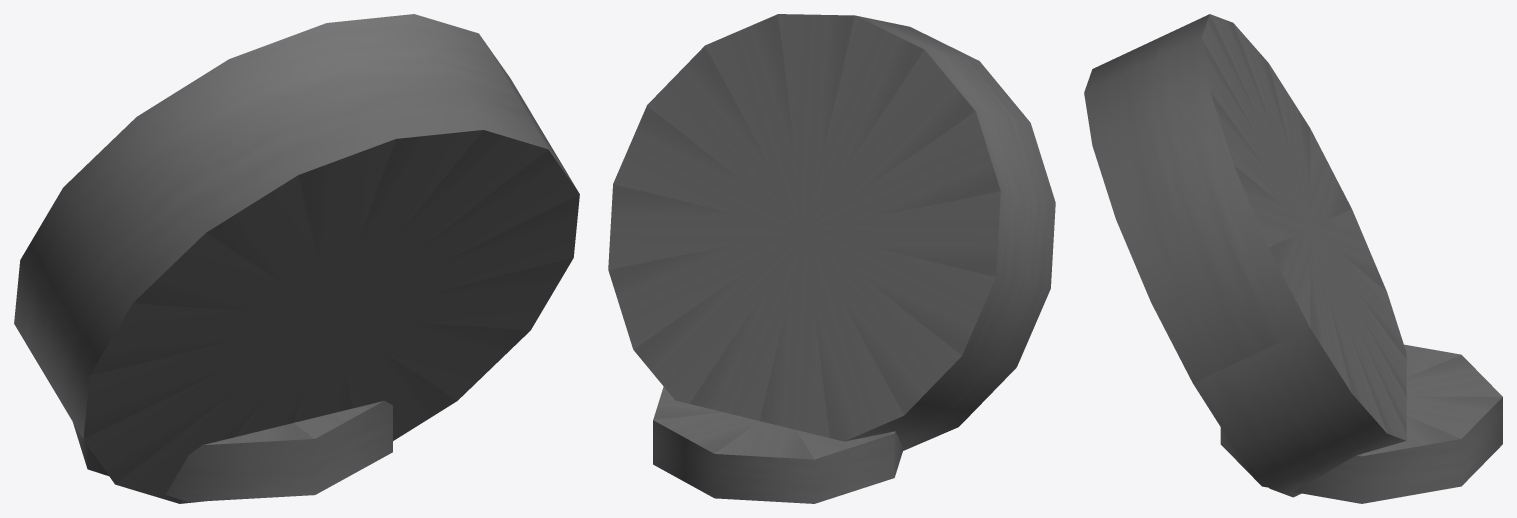
File: mastarmcurve_6x2_c2_down.obj
3 renders of one model, left to right at view 1: azimuth 30°, elevation 25°; view 2: azimuth 150°, elevation 25°; view 3: azimuth 270°, elevation 25°, orthographic. The views are drawn at different scales.
Visible parts, largest first — view 1: mastarm_6x2_c2_down; view 2: mastarm_6x2_c2_down; view 3: mastarm_6x2_c2_down.
Boxes of the visible parts, x1=… form: mastarm_6x2_c2_down: x1=14, y1=14, x2=579, y2=503; mastarm_6x2_c2_down: x1=608, y1=14, x2=1055, y2=503; mastarm_6x2_c2_down: x1=1084, y1=14, x2=1502, y2=503.
Size of the model in its own units: 0.6707 by 0.6819 by 0.5936.
